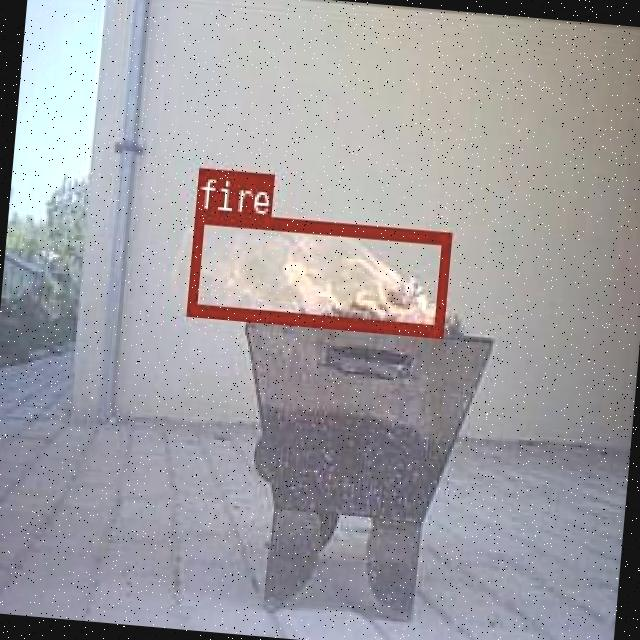fire: (184, 208, 450, 336)
